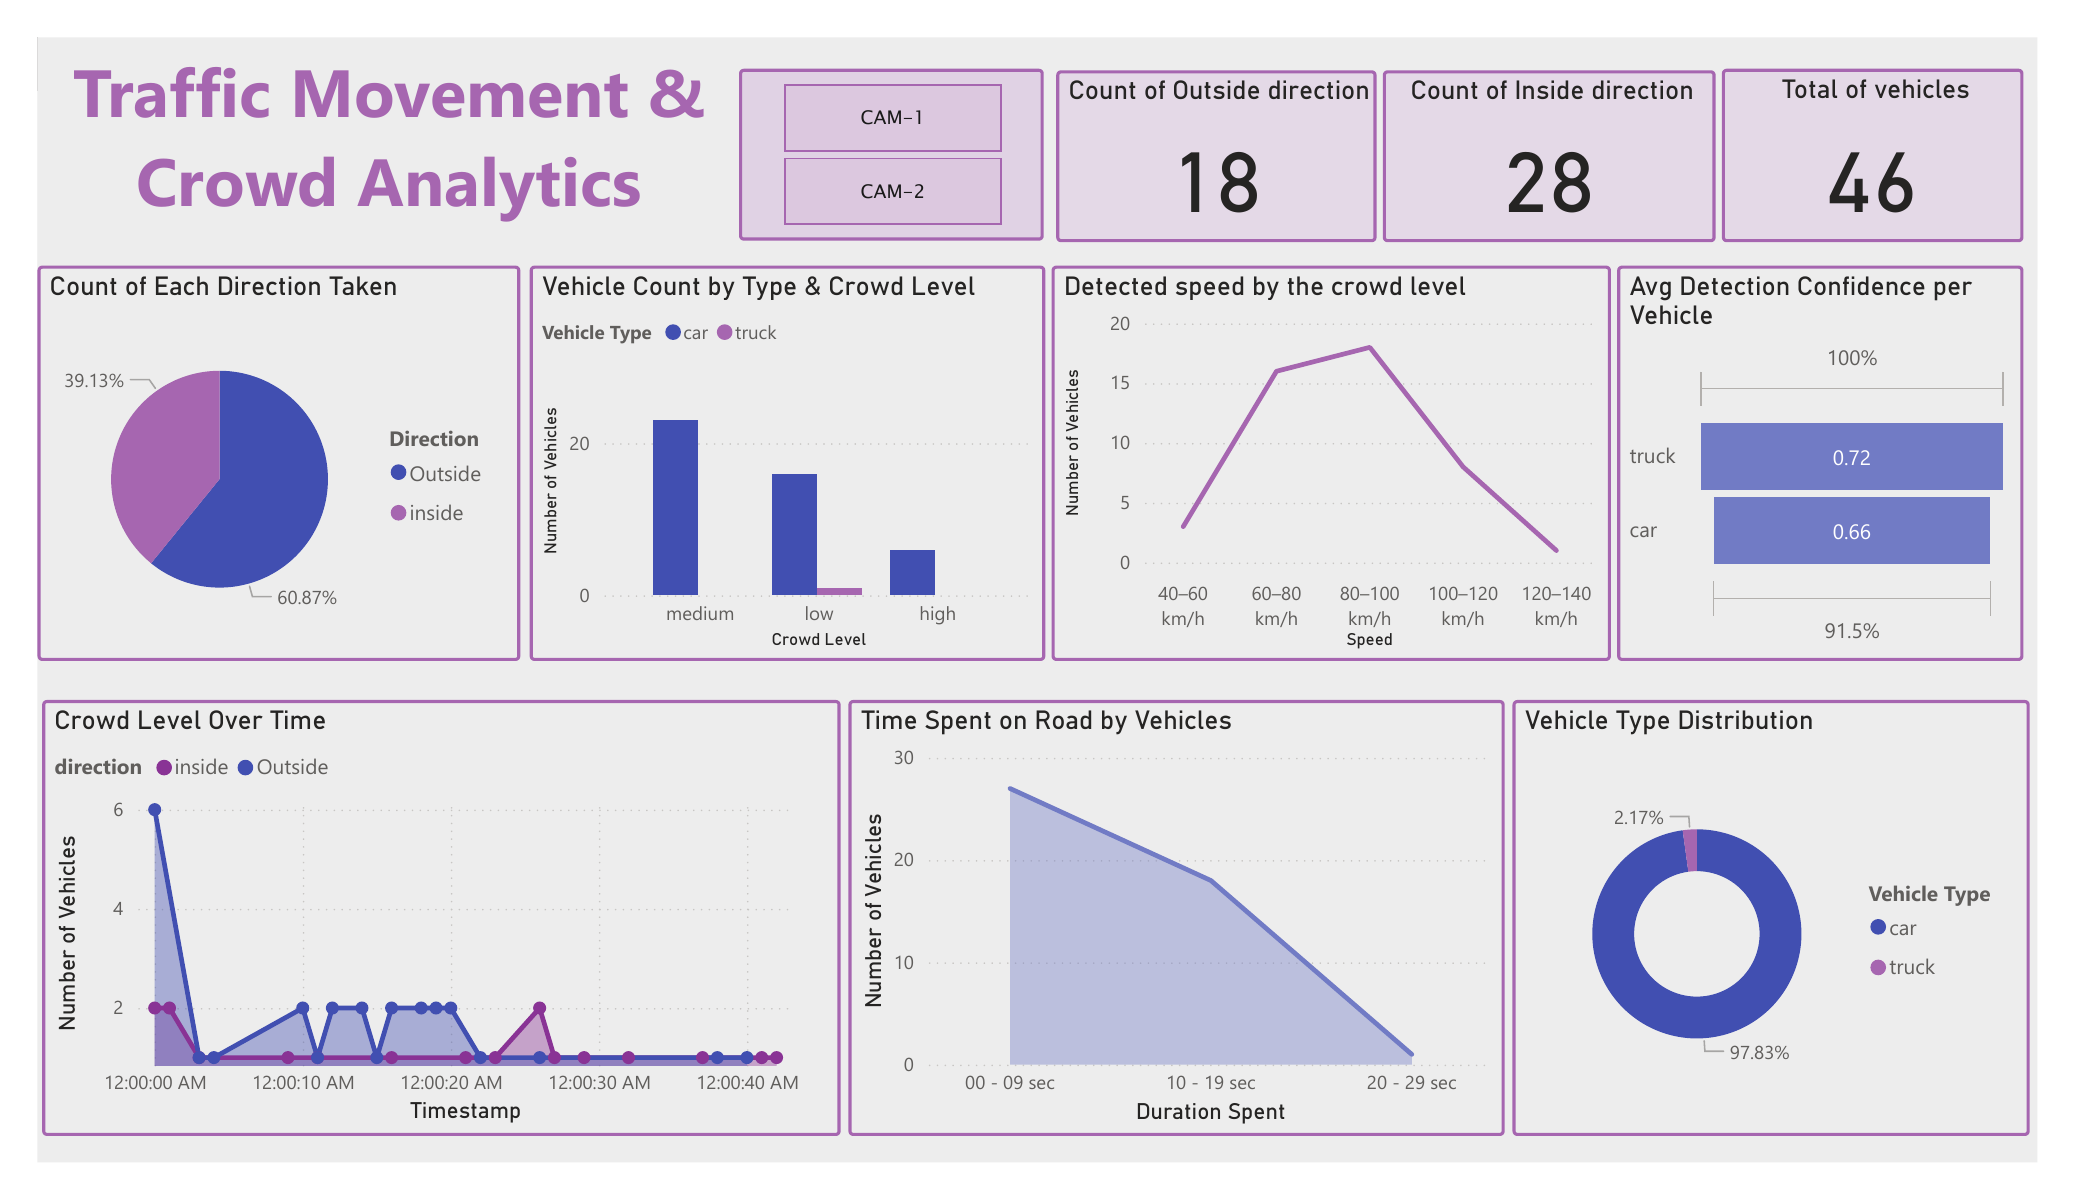

Layout of this report page (visuals, bound fields, positions):
{"tool":"powerbi","page":{"name":"Page 1","canvas":[1280,720],"ordinal":0},"visuals":[{"type":"slicer","fields":{"Values":["Append1.CAM_ID"]},"box":[448.6,20,195.7,110],"z":0},{"type":"card","title":"Total of vehicles","fields":{"Values":["CountNonNull(Append1.tracker_id)"]},"box":[1078,20.3,193.2,110.2],"z":1000},{"type":"funnel","title":"Avg Detection Confidence per Vehicle","fields":{"Category":["Append1.class_name"],"Y":["Avg(Append1.confidence)"]},"box":[1010.8,145.8,259.9,253.1],"z":2000},{"type":"pieChart","title":"Count of Each Direction Taken","fields":{"Category":["Append1.direction"],"Y":["CountNonNull(Append1.direction)"]},"box":[0,145.8,309,253.1],"z":3000},{"type":"areaChart","title":"Taken direction over time","fields":{"Category":["Append1.timestamp"],"Y":["CountNonNull(Append1.tracker_id)"],"Series":["Append1.direction"]},"box":[3.4,423.7,510.2,279.7],"z":4000},{"type":"clusteredColumnChart","title":"Vehicle Count by Type & Crowd Level","fields":{"Category":["Append1.crowd"],"Series":["Append1.class_name"],"Y":["CountNonNull(Append1.class_id)"]},"box":[314.9,145.8,330.1,253.1],"z":5000},{"type":"donutChart","title":"Vehicle Type Distribution","fields":{"Category":["Append1.class_name"],"Y":["CountNonNull(Append1.class_name)"]},"box":[944.1,423.7,330.5,279.7],"z":6000},{"type":"areaChart","title":"Time Spent on Road by Vehicles ","fields":{"Category":["Append1.duration_bin"],"Y":["CountNonNull(Append1.tracker_id)"]},"box":[518.6,423.7,420.3,279.7],"z":7000},{"type":"card","title":"Count of Inside direction","fields":{"Values":["Append1.Count of direction for Outside"]},"box":[860.9,20.6,213.2,110],"z":8000},{"type":"card","title":"Count of Outside direction","fields":{"Values":["Append1.Count of direction for inside"]},"box":[651.9,20.6,204.9,110],"z":9000},{"type":"lineChart","title":"Detected speed of the vehicles","fields":{"Y":["CountNonNull(Append1.class_name)"],"Category":["Append1.speed_bin"]},"box":[649.1,145.8,357.6,253.1],"z":10000},{"type":"textbox","box":[17.1,0,415.7,130],"z":11000}]}

Visuals, with their boxes in screenshot pixels (x1, y1, x2, y2):
slicer - Append1.CAM_ID: [left=746, top=69, right=1048, bottom=238]
"Total of vehicles" card: [left=1716, top=69, right=2014, bottom=239]
"Avg Detection Confidence per Vehicle" funnel: [left=1613, top=263, right=2013, bottom=653]
"Count of Each Direction Taken" pieChart: [left=54, top=263, right=531, bottom=653]
"Taken direction over time" areaChart: [left=59, top=691, right=846, bottom=1122]
"Vehicle Count by Type & Crowd Level" clusteredColumnChart: [left=540, top=263, right=1049, bottom=653]
"Vehicle Type Distribution" donutChart: [left=1510, top=691, right=2019, bottom=1122]
"Time Spent on Road by Vehicles " areaChart: [left=854, top=691, right=1502, bottom=1122]
"Count of Inside direction" card: [left=1382, top=70, right=1710, bottom=239]
"Count of Outside direction" card: [left=1059, top=70, right=1375, bottom=239]
"Detected speed of the vehicles" lineChart: [left=1055, top=263, right=1606, bottom=653]
textbox: [left=80, top=38, right=721, bottom=238]
